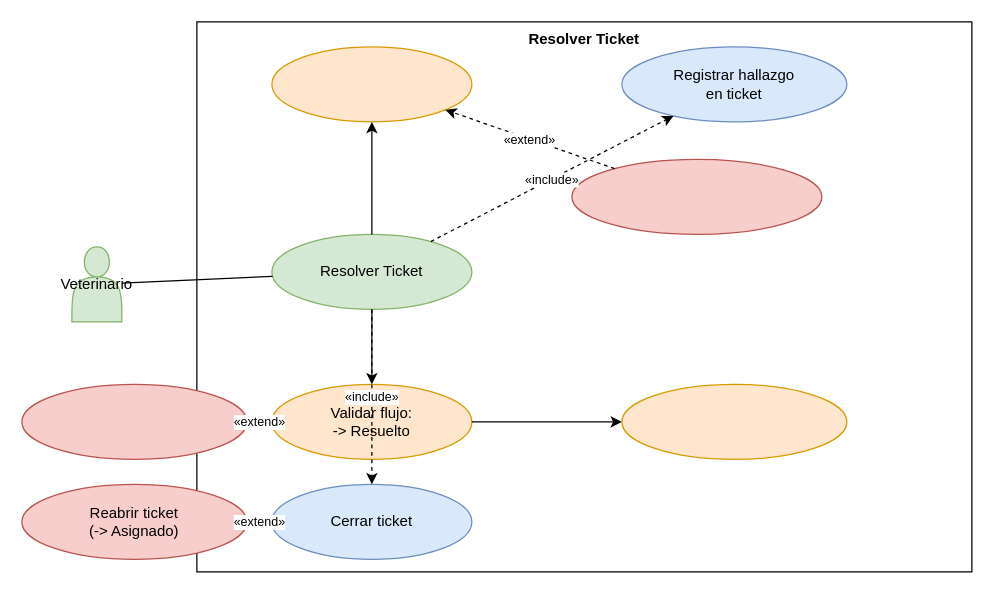
Some shapes in this 994 by 594 pixel diagram are drawn without their labels. The box of each missing label's shape, as (x1, y1, x2, y2) in pixels:
Buscar ticket por numero: (271, 46, 472, 122)
Ingresar diagnostico y tratamiento: (621, 383, 847, 459)
Notificar ticket no encontrado: (571, 158, 822, 234)
Rechazar cambio de estado invalido: (21, 383, 247, 459)
